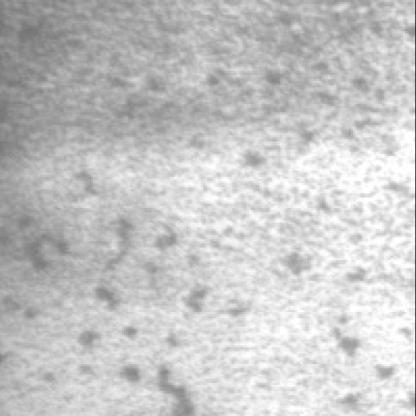pitted_surface: (19, 146, 414, 414), (29, 36, 408, 212)
